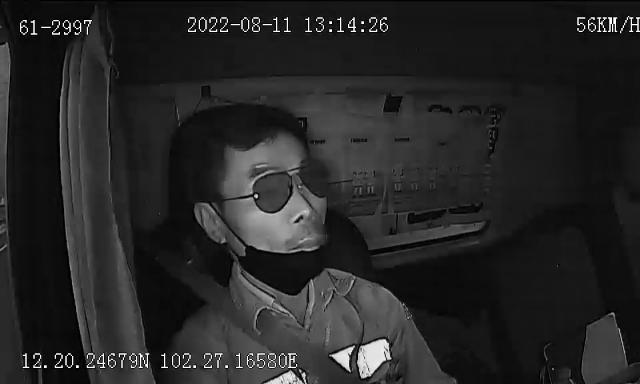SafeDriving: (418, 96, 469, 121)
Seatbelt: (186, 270, 374, 384)
